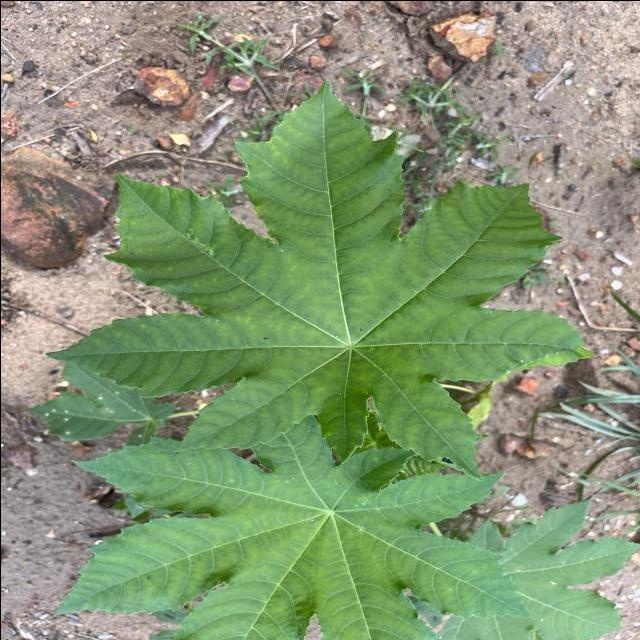Ricinus communis linn: (42, 76, 602, 484), (45, 411, 537, 640)
